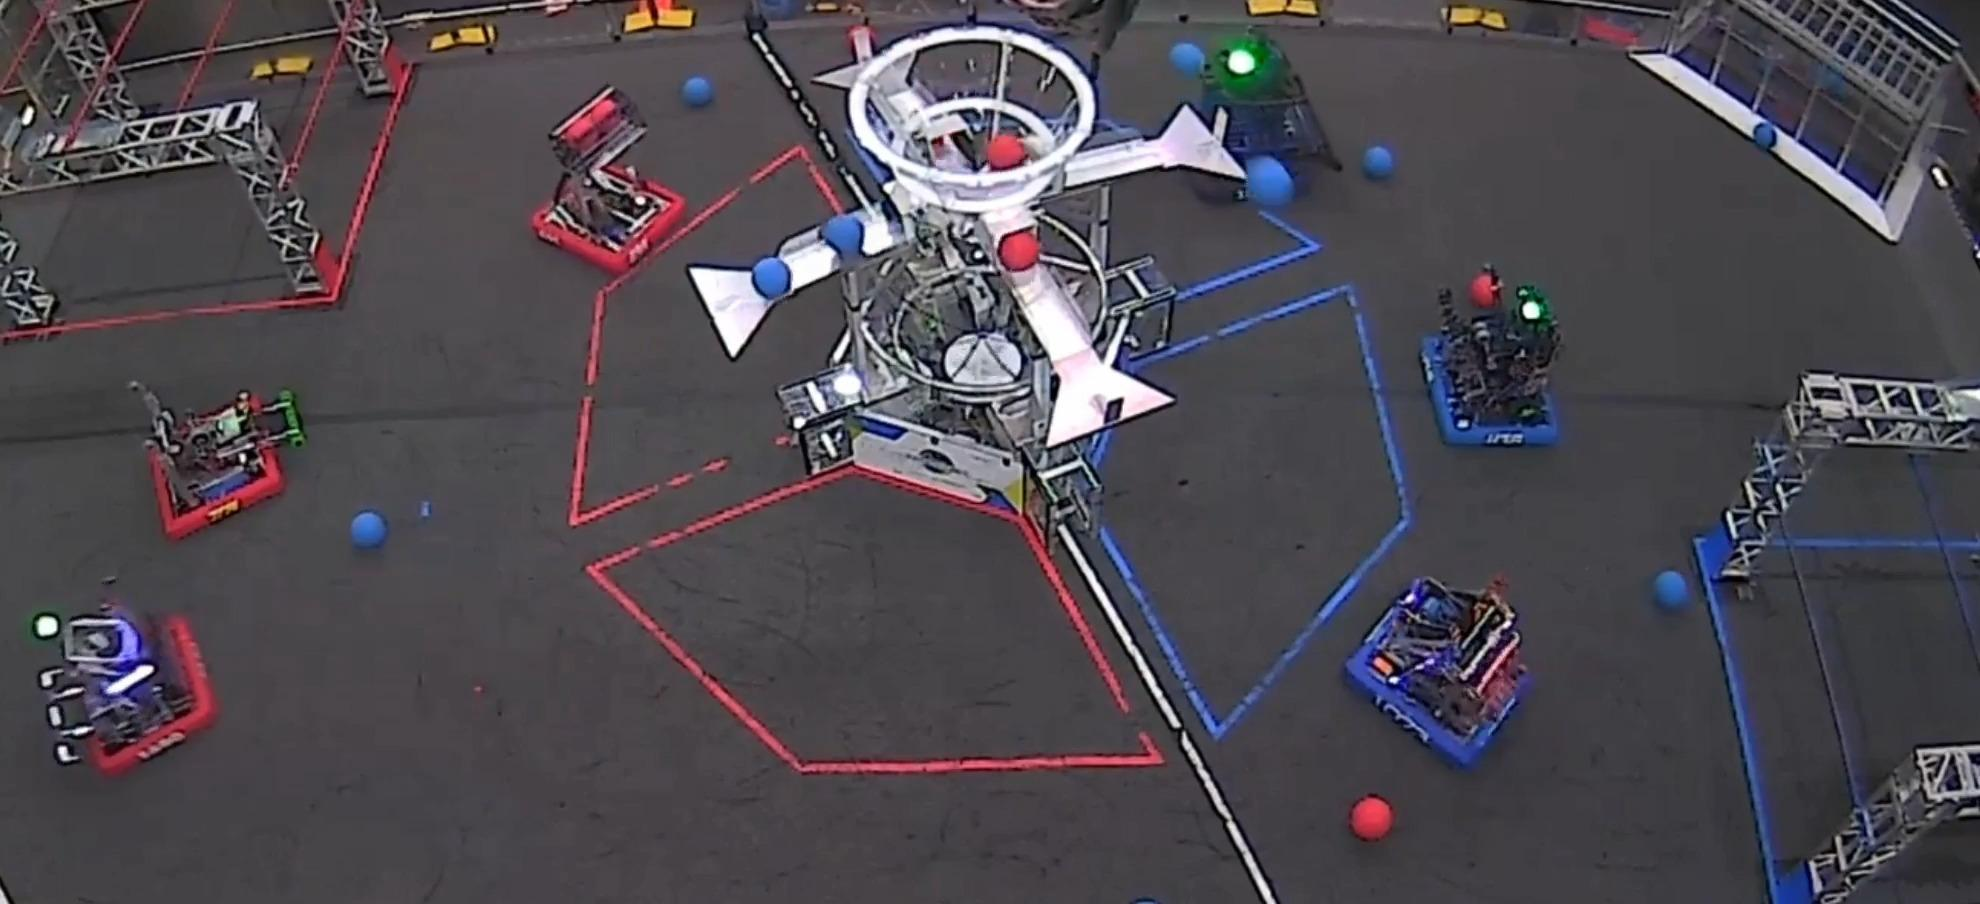Robots: (1347, 580, 1528, 766), (33, 595, 216, 774), (532, 87, 684, 274), (130, 383, 306, 539), (1423, 266, 1560, 444), (1198, 29, 1342, 191)
